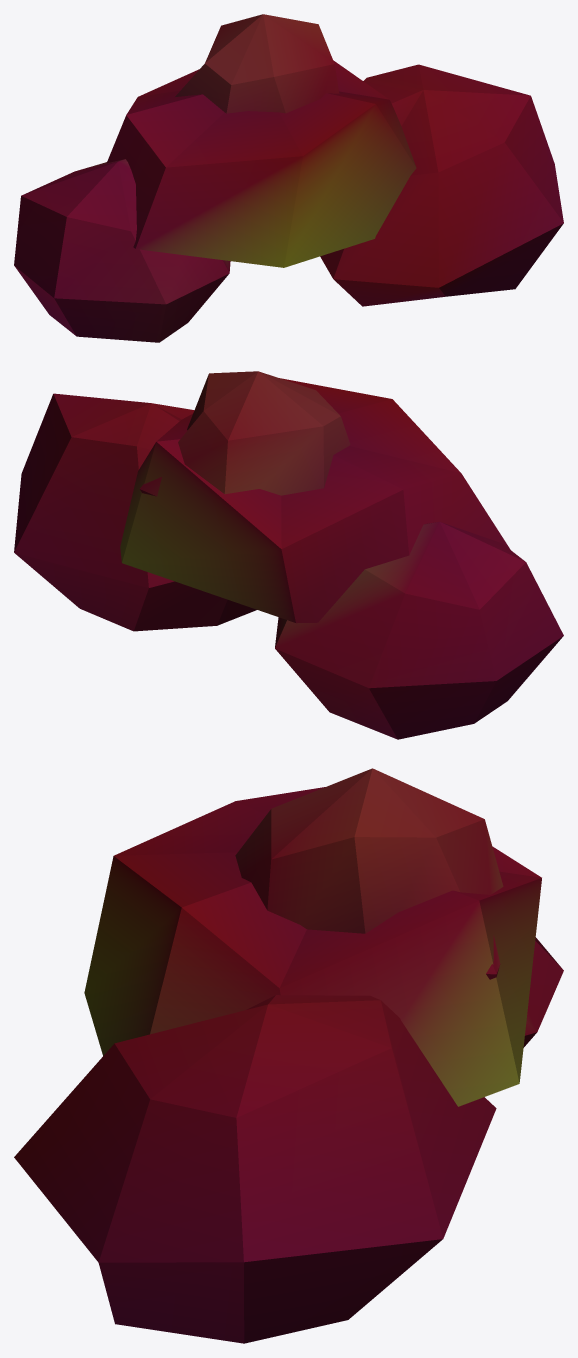
File: Bush_01.fbx
3 renders of one model, top to bottom at view 1: azimuth 30°, elevation 25°; view 2: azimuth 150°, elevation 25°; view 3: azimuth 270°, elevation 25°, orthographic. The views are drawn at different scales.
Parts seen in each view (by area): view 1: Bush_01; view 2: Bush_01; view 3: Bush_01.
Part boxes in pixels (<box>): Bush_01: <box>14,14,563,342</box>; Bush_01: <box>14,371,563,739</box>; Bush_01: <box>14,768,563,1343</box>.
Size of the model in its own units: 1.66 by 0.8536 by 0.9908.
